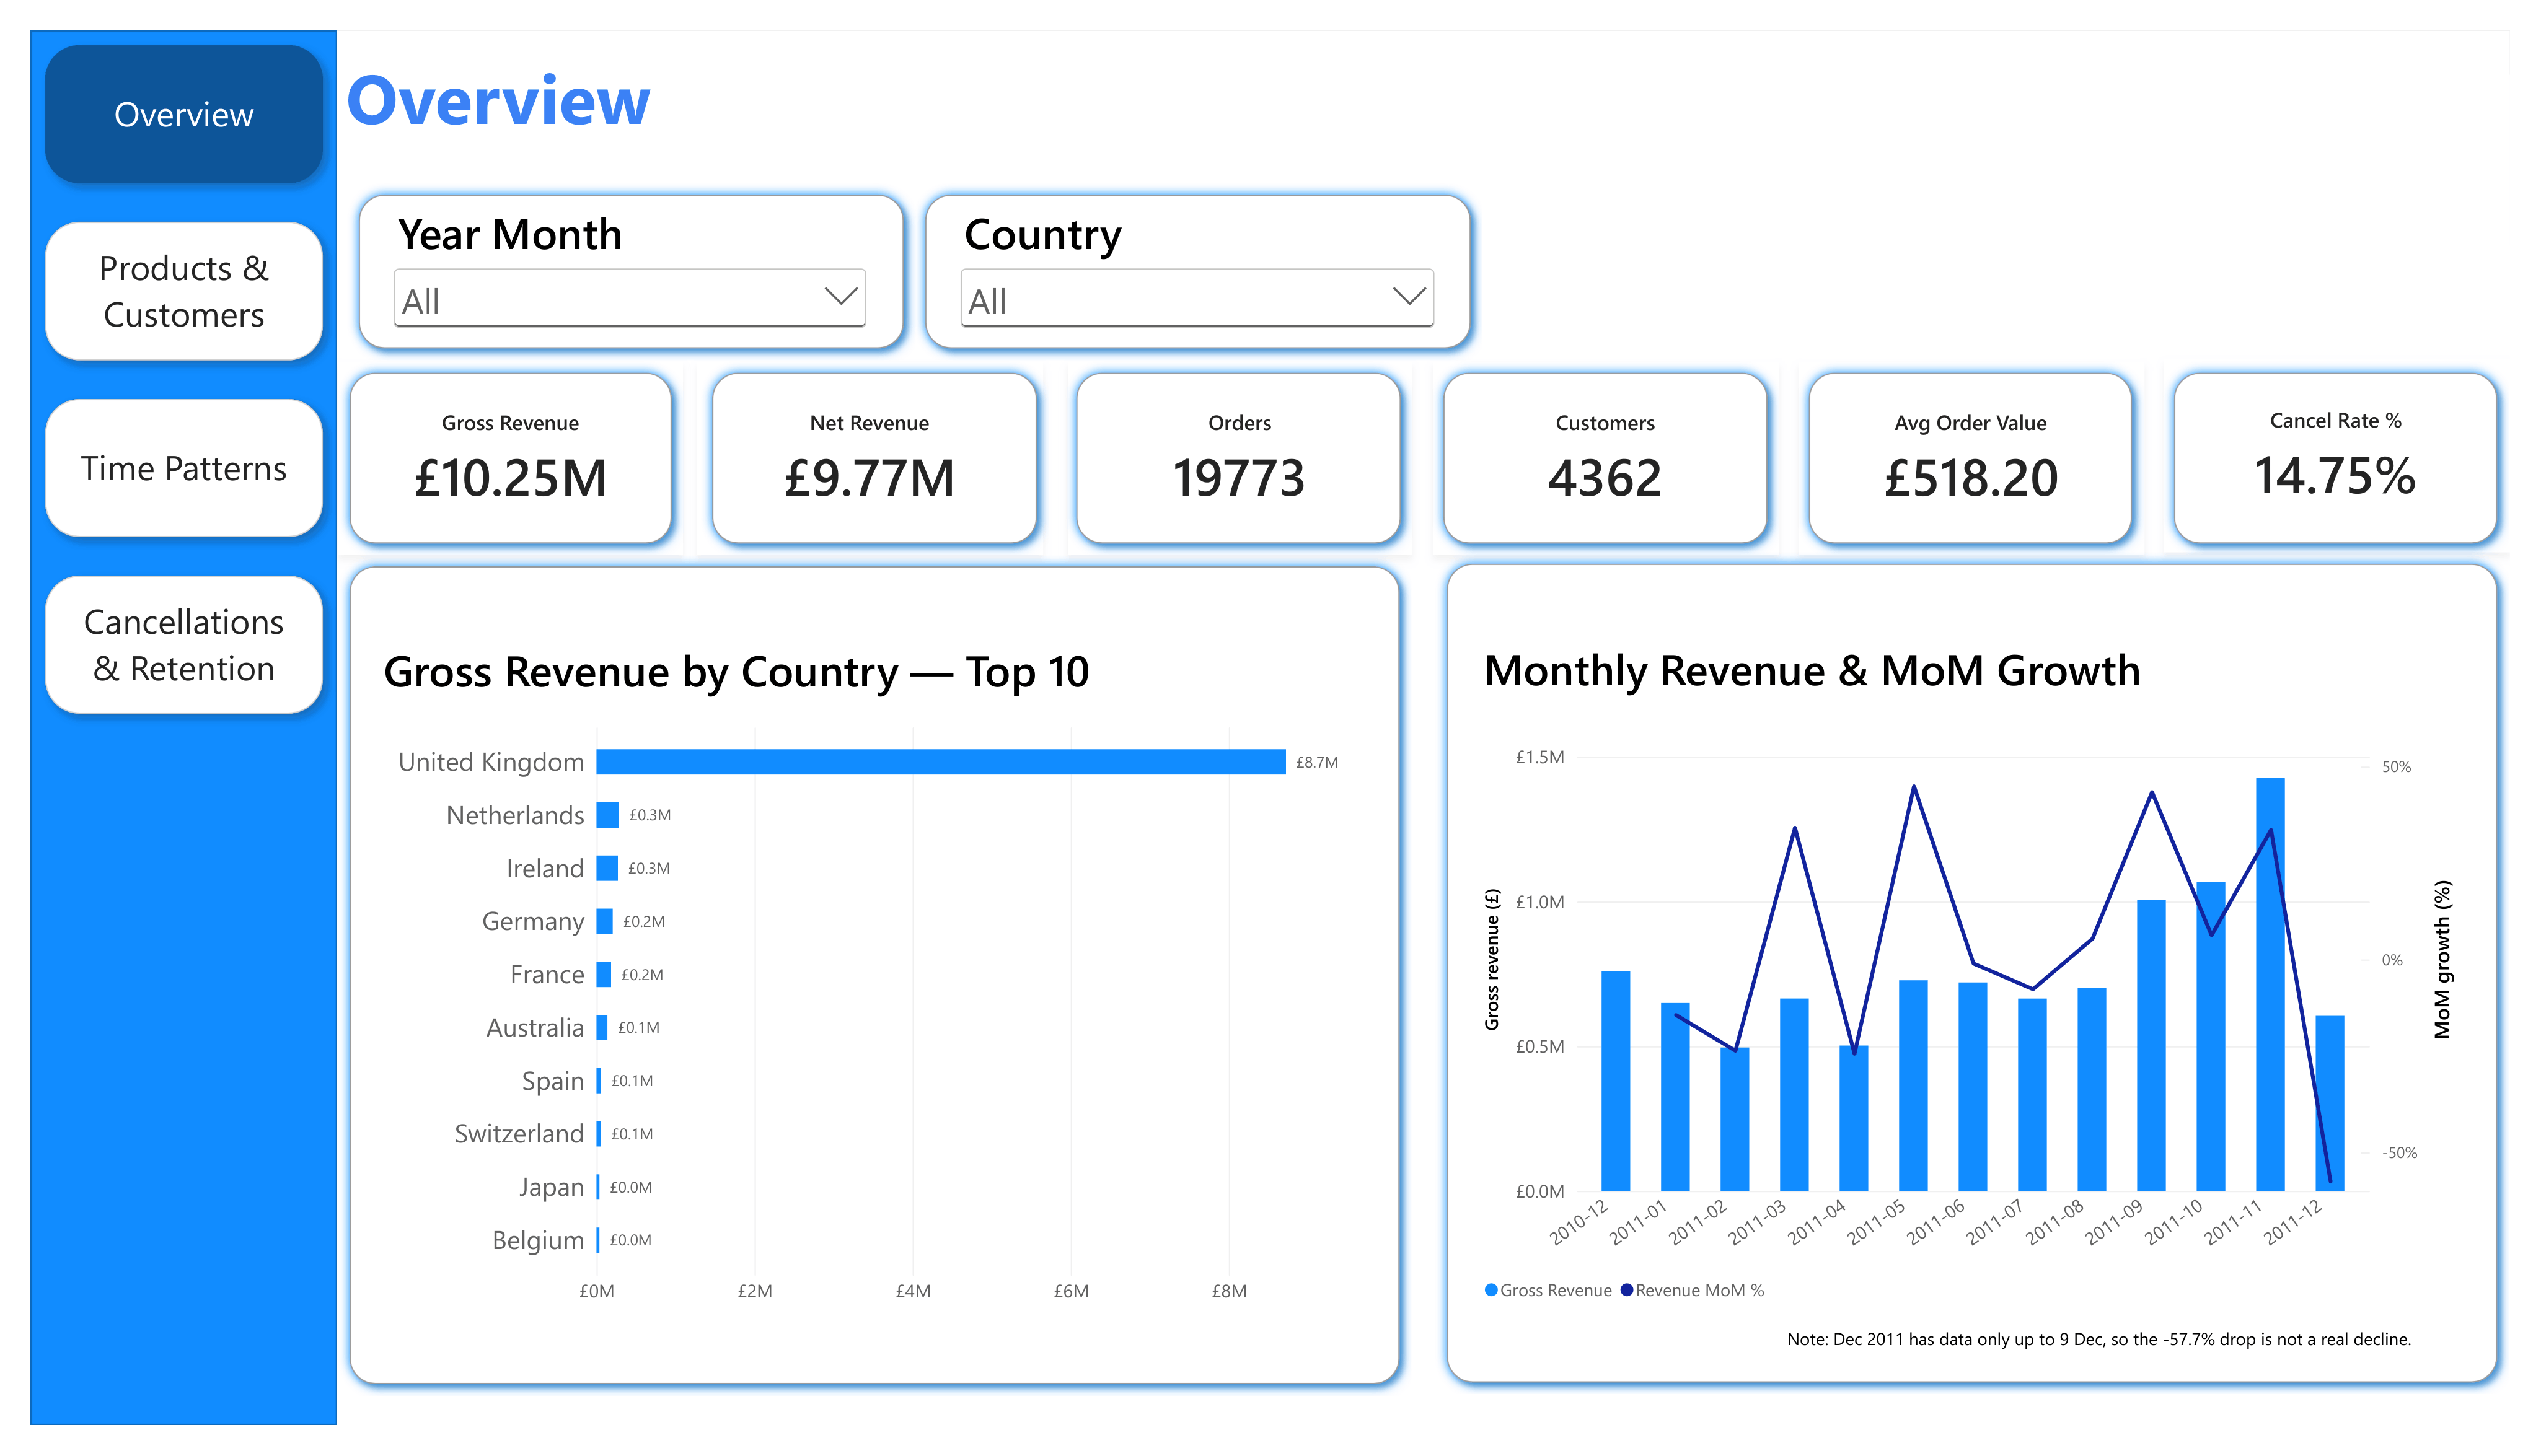

The page's visual inventory and layout, read from the dashboard file:
{"tool":"powerbi","page":{"name":"Overview","canvas":[1920,1080],"ordinal":0},"visuals":[{"type":"shape","box":[684.4,117.7,440,137.1],"z":0},{"type":"shape","box":[244.5,117.7,440,137.1],"z":1000},{"type":"textbox","box":[244.3,14.3,825.7,72.9],"z":2000},{"type":"slicer","fields":{"Values":["Calendar.Year Month"]},"box":[275.6,133.3,376.7,106.7],"z":3000},{"type":"shape","box":[237.7,255.5,267.5,150],"z":5000},{"type":"shape","box":[1651.5,255.5,267.5,150],"z":6000},{"type":"shape","box":[519,255.5,268.8,150],"z":7000},{"type":"shape","box":[1367.7,255.5,268.8,150],"z":8000},{"type":"shape","box":[801.5,255.5,268.8,150],"z":9000},{"type":"shape","box":[1085.2,255.5,268.8,150],"z":10000},{"type":"cardVisual","fields":{"Data":["_Measures (2).Gross Revenue"]},"box":[237.7,255.5,267.5,150],"z":11000},{"type":"cardVisual","fields":{"Data":["_Measures (2).Cancel Rate %"]},"box":[1652,254.3,267.5,150],"z":12000},{"type":"cardVisual","fields":{"Data":["_Measures (2).Orders"]},"box":[802.7,255.5,267.5,150],"z":13000},{"type":"cardVisual","fields":{"Data":["_Measures (2).Avg Order Value"]},"box":[1369.2,255.7,267.5,150],"z":14000},{"type":"cardVisual","fields":{"Data":["_Measures (2).Customers"]},"box":[1086.5,255.5,267.5,150],"z":15000},{"type":"cardVisual","fields":{"Data":["_Measures (2).Net Revenue"]},"box":[516.5,255.5,267.5,150],"z":16000},{"type":"shape","box":[237.7,405.7,831.4,651.4],"z":17000},{"type":"clusteredBarChart","title":"Gross Revenue by Country — Top 10","fields":{"Category":["ecommerce_analytics online_retail.country"],"Y":["_Measures (2).Gross Revenue"]},"box":[260.6,460,778.6,542.9],"z":18000},{"type":"shape","box":[1087.7,404.3,831.4,651.4],"z":19000},{"type":"lineClusteredColumnComboChart","title":"Monthly Revenue & MoM Growth","fields":{"Category":["Calendar.Year Month"],"Y":["_Measures (2).Gross Revenue"],"Y2":["_Measures (2).Revenue MoM %"]},"box":[1113.5,458.6,778.6,542.9],"z":20000},{"type":"shape","box":[0,0,237.1,1080],"z":21000},{"type":"pageNavigator","box":[0,0,237.1,540],"z":22000},{"type":"textbox","box":[1359.8,1003.6,560,75.7],"z":23000},{"type":"slicer","fields":{"Values":["ecommerce_analytics online_retail.country"]},"box":[715.5,133.3,376.7,106.7],"z":25000}]}

Visuals, with their boxes on the page's 1920x1080 design canvas (x1, y1, x2, y2). These are canvas units, not pixel positions in the 2541x1456 screenshot, which may show the page scaled, cropped or inside an application window:
shape: 684:118:1124:255
shape: 244:118:684:255
textbox: 244:14:1070:87
slicer - Calendar.Year Month: 276:133:652:240
shape: 238:256:505:406
shape: 1652:256:1919:406
shape: 519:256:788:406
shape: 1368:256:1636:406
shape: 802:256:1070:406
shape: 1085:256:1354:406
cardVisual - _Measures (2).Gross Revenue: 238:256:505:406
cardVisual - _Measures (2).Cancel Rate %: 1652:254:1920:404
cardVisual - _Measures (2).Orders: 803:256:1070:406
cardVisual - _Measures (2).Avg Order Value: 1369:256:1637:406
cardVisual - _Measures (2).Customers: 1086:256:1354:406
cardVisual - _Measures (2).Net Revenue: 516:256:784:406
shape: 238:406:1069:1057
"Gross Revenue by Country — Top 10" clusteredBarChart: 261:460:1039:1003
shape: 1088:404:1919:1056
"Monthly Revenue & MoM Growth" lineClusteredColumnComboChart: 1114:459:1892:1002
shape: 0:0:237:1080
pageNavigator: 0:0:237:540
textbox: 1360:1004:1920:1079
slicer - ecommerce_analytics online_retail.country: 716:133:1092:240
